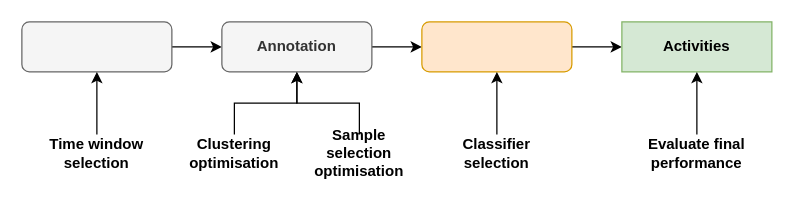
Some shapes in this 794 by 201 pixel diagram are drawn without their labels. The shapes that lost their labels are listed below. From the top down, each one's centre as x and y in pixels, then its label:
At (x=96, y=46): "Raw data".
At (x=496, y=46): "Classifier".
